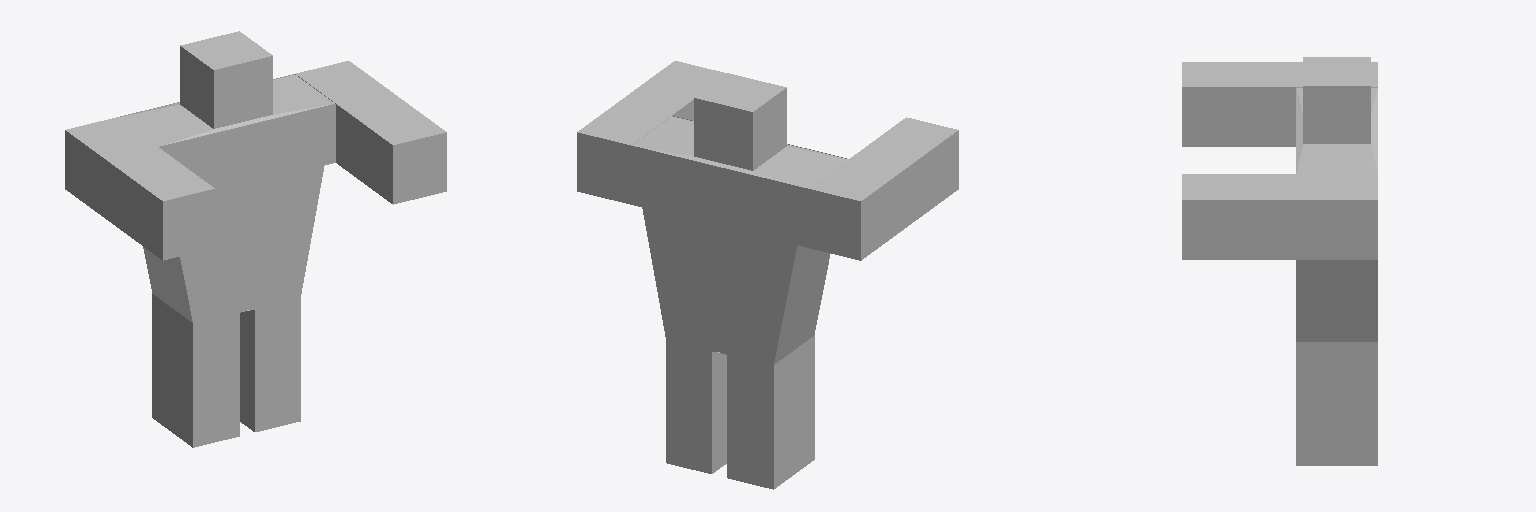
File: man.obj
3 views of the same model, side by side, from view 1: azimuth 30°, elevation 25°; view 2: azimuth 150°, elevation 25°; view 3: azimuth 270°, elevation 25° (orthographic).
Parts seen in each view (by area): view 1: Cube; view 2: Cube; view 3: Cube.
Part boxes in pixels (x1,y1,x2,y2): Cube: (65,31,446,447); Cube: (577,61,958,489); Cube: (1182,57,1377,465).
Size of the model in its own units: 2.96 by 3.68 by 1.77.